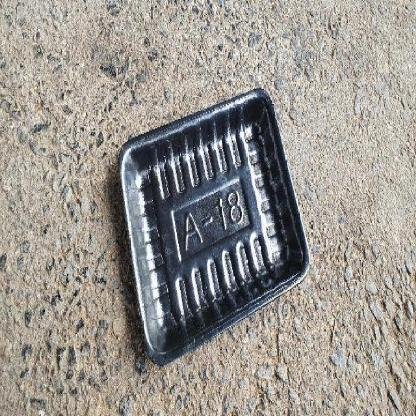Glass Cup: (119, 88, 310, 365), (119, 89, 309, 365)
